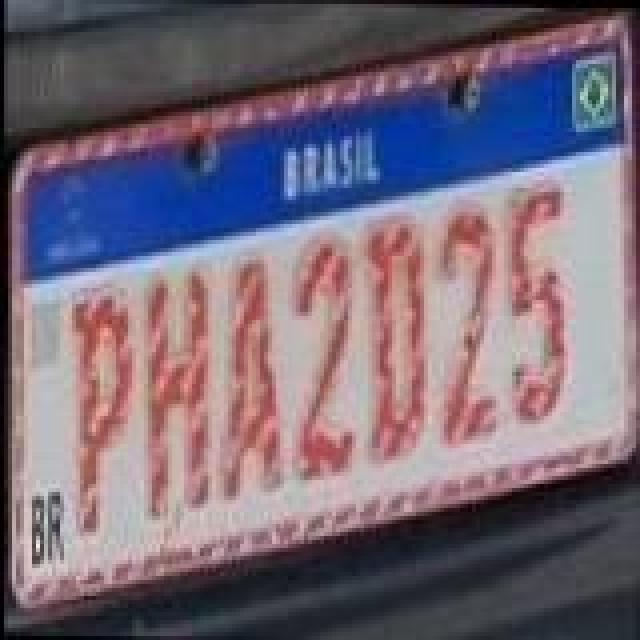2: (286, 228, 358, 480), (432, 200, 500, 448)
5: (504, 180, 572, 428)
A: (224, 254, 292, 498)
D: (360, 214, 428, 466)
H: (140, 270, 212, 522)
P: (68, 286, 140, 538)
